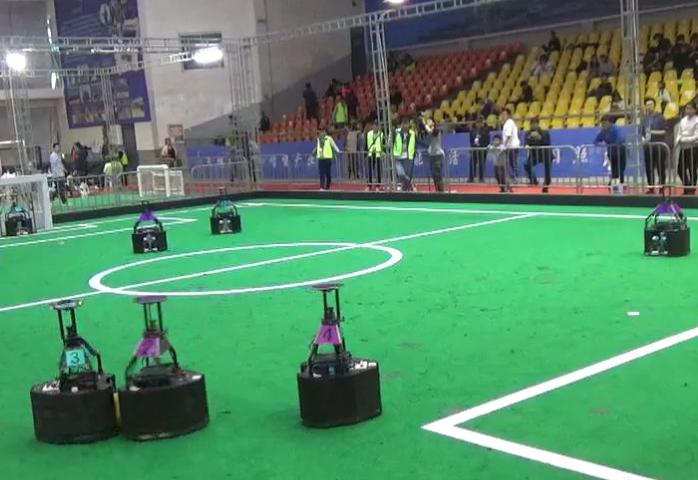robot: (289, 282, 391, 432), (113, 295, 215, 444), (23, 300, 120, 445), (641, 182, 697, 263), (127, 197, 171, 255), (204, 182, 247, 238)
